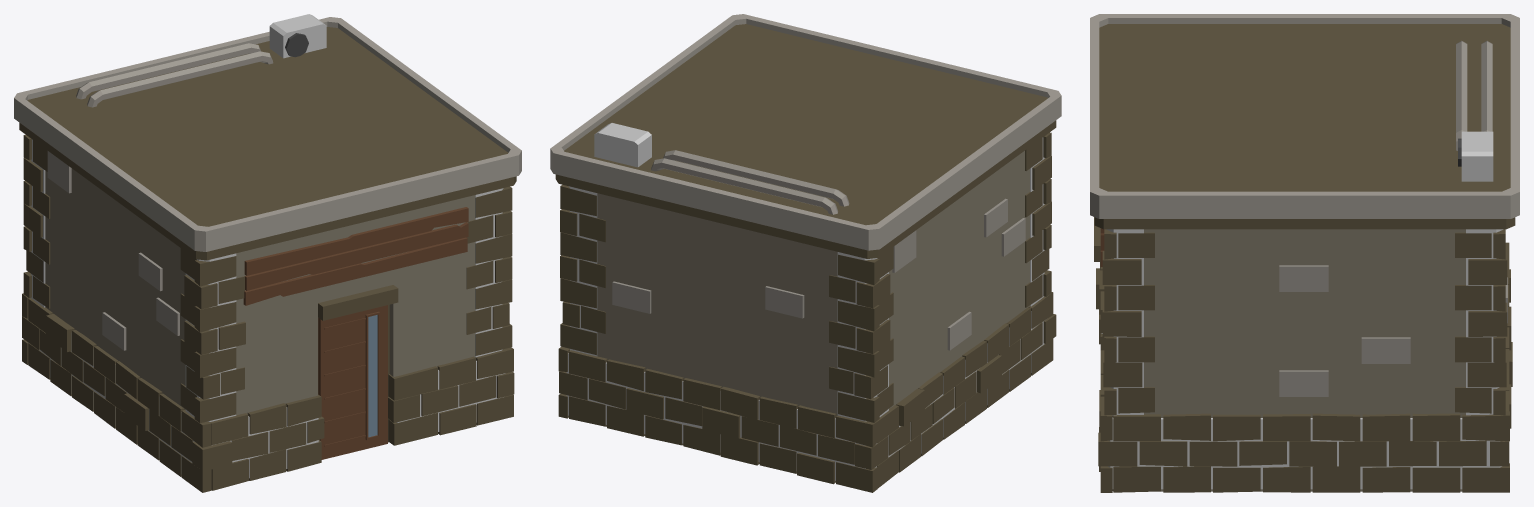
File: 1Story_Sign.glb
3 renders of one model, left to right at view 1: azimuth 30°, elevation 25°; view 2: azimuth 150°, elevation 25°; view 3: azimuth 270°, elevation 25°, orthographic. The views are drawn at different scales.
Parts seen in each view (by area): view 1: 1Story_Sign_Cube.105; view 2: 1Story_Sign_Cube.105; view 3: 1Story_Sign_Cube.105.
Part boxes in pixels (bbox=[...]): 1Story_Sign_Cube.105: bbox=[14, 14, 521, 492]; 1Story_Sign_Cube.105: bbox=[550, 14, 1061, 492]; 1Story_Sign_Cube.105: bbox=[1090, 14, 1519, 492].
Bounding box in the file's own units: 2.15 × 1.79 × 2.15.
Materials: 1 (1 with a texture image).
